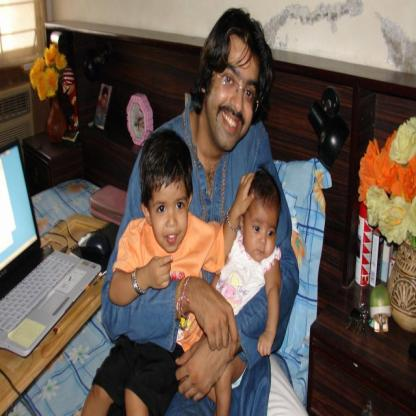board: (0, 135, 102, 355), (356, 202, 373, 288)
